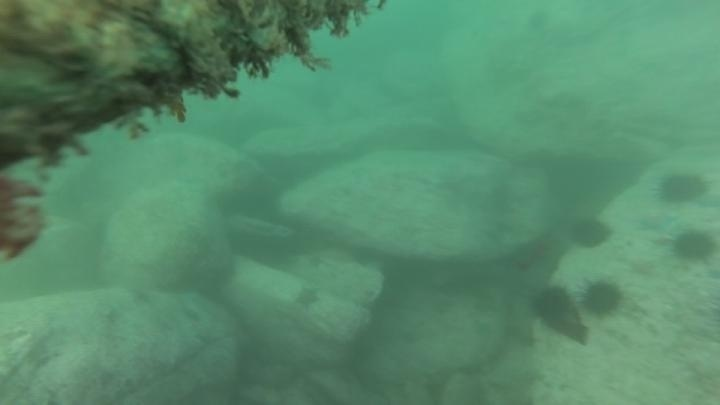echinus: (528, 282, 575, 329), (654, 169, 710, 208), (579, 277, 625, 321), (669, 226, 718, 266), (567, 214, 613, 253)
starfish: (632, 207, 679, 236), (292, 284, 323, 312)
